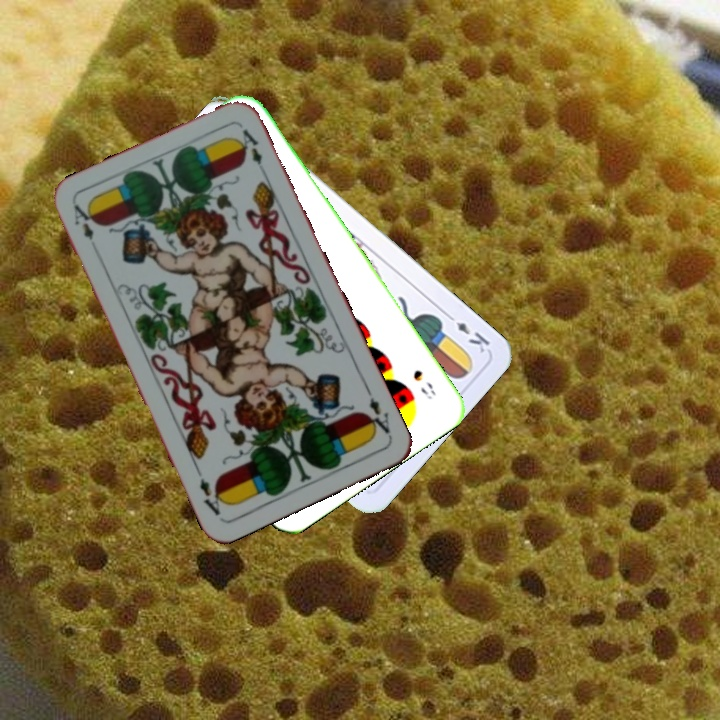EA: (361, 384, 394, 439), (69, 200, 97, 243)
EK: (441, 309, 493, 356)
S8: (409, 365, 439, 402)
